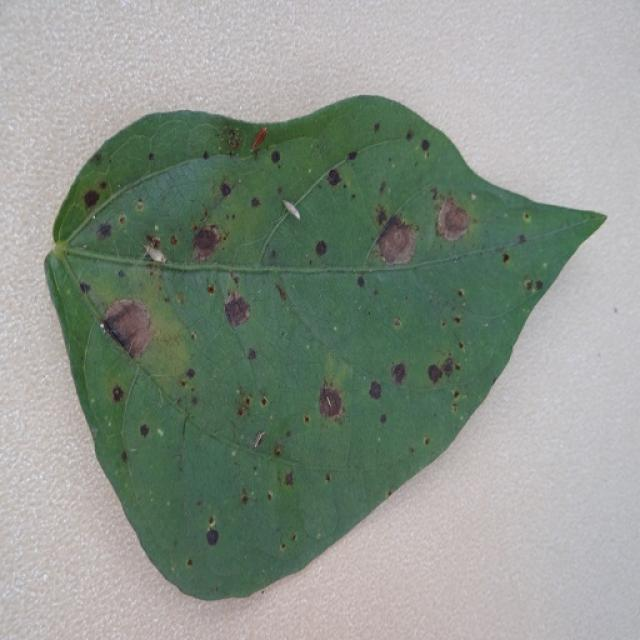Anthracnose: (213, 376, 316, 543), (177, 265, 263, 350), (368, 214, 434, 281), (180, 193, 244, 262), (230, 377, 287, 437), (429, 187, 474, 245), (216, 121, 280, 161), (79, 174, 119, 223), (200, 175, 239, 219), (317, 379, 346, 420), (437, 298, 466, 335), (427, 356, 456, 386), (144, 234, 167, 262), (219, 124, 242, 151), (178, 369, 197, 397), (235, 388, 253, 417), (206, 516, 219, 545), (391, 362, 407, 385), (83, 189, 100, 210), (326, 168, 342, 186), (368, 380, 382, 400), (524, 279, 543, 293), (376, 206, 389, 226), (315, 240, 328, 257), (275, 284, 287, 301), (112, 385, 124, 402), (240, 489, 251, 506), (220, 182, 232, 197), (140, 423, 150, 438), (79, 281, 91, 293), (379, 180, 388, 195), (93, 152, 103, 165), (421, 139, 431, 151), (430, 186, 438, 200), (522, 212, 532, 223), (251, 197, 261, 208), (357, 275, 365, 288), (185, 368, 195, 378), (176, 293, 184, 304), (406, 130, 414, 141), (99, 181, 108, 190), (502, 253, 510, 263), (170, 235, 178, 245), (373, 122, 380, 133), (261, 396, 268, 406), (394, 318, 401, 327), (452, 404, 459, 413), (425, 438, 430, 445)
Blackgram: (45, 96, 604, 599)
